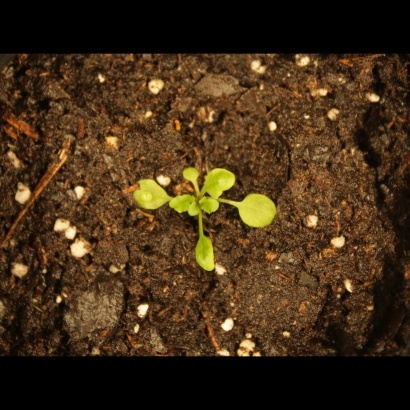leaf: (236, 190, 283, 235), (127, 175, 168, 214), (188, 230, 222, 273), (203, 165, 240, 200), (168, 194, 202, 217), (179, 163, 202, 186), (199, 196, 222, 219)
